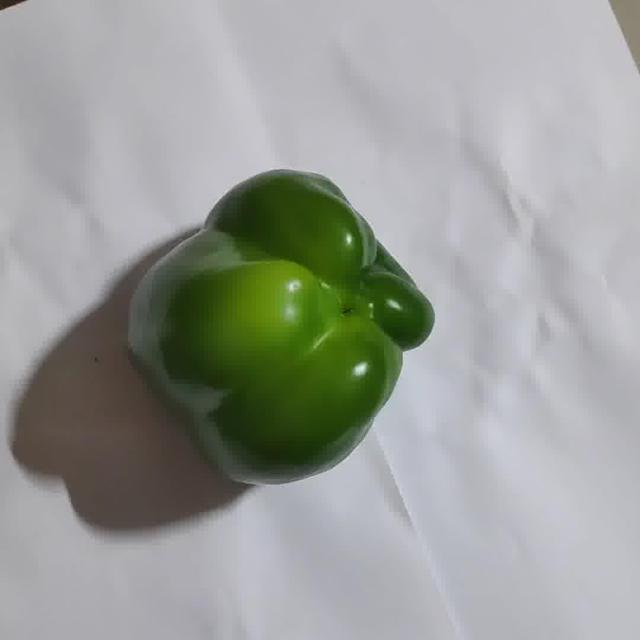Bell Pepper: (129, 171, 434, 484)
